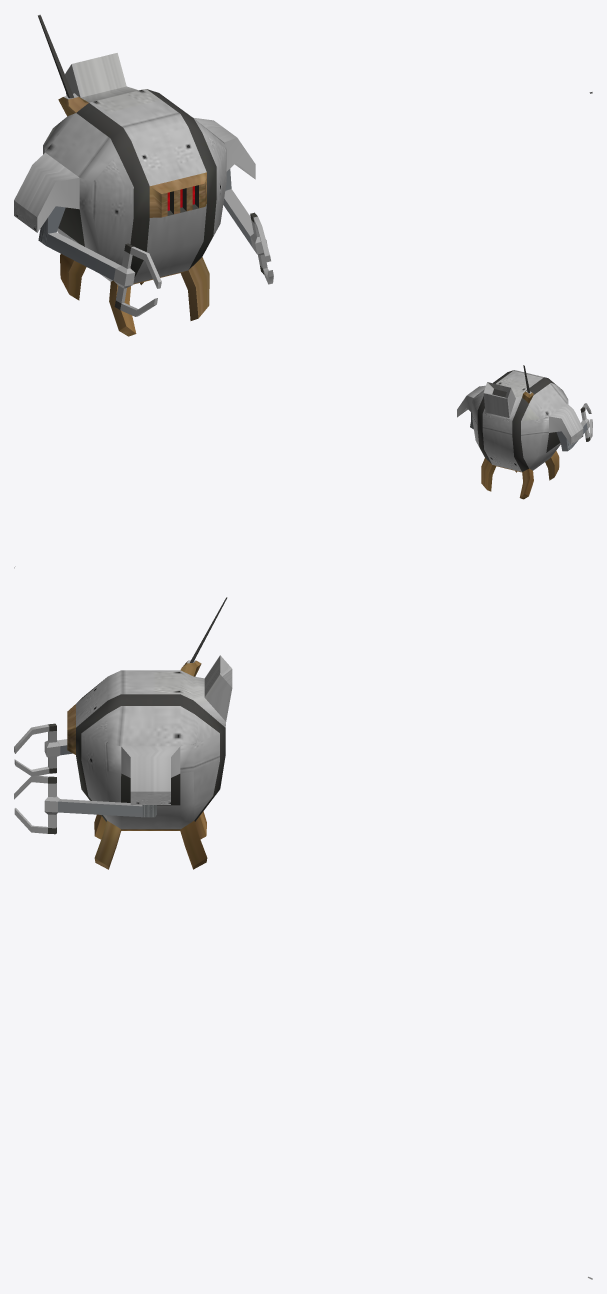
File: guide.fbx
3 views of the same model, one above another, from view 1: azimuth 30°, elevation 25°; view 2: azimuth 150°, elevation 25°; view 3: azimuth 270°, elevation 25° (orthographic). The views are drawn at different scales.
Visible parts, largest first — view 1: pCube1; view 2: pCube1; view 3: pCube1.
Part boxes in pixels (x1,y1,x2,y2): pCube1: [14, 14, 273, 336]; pCube1: [457, 365, 592, 499]; pCube1: [14, 597, 232, 869].
Size of the model in its own units: 2.98 by 1.46 by 2.12.
